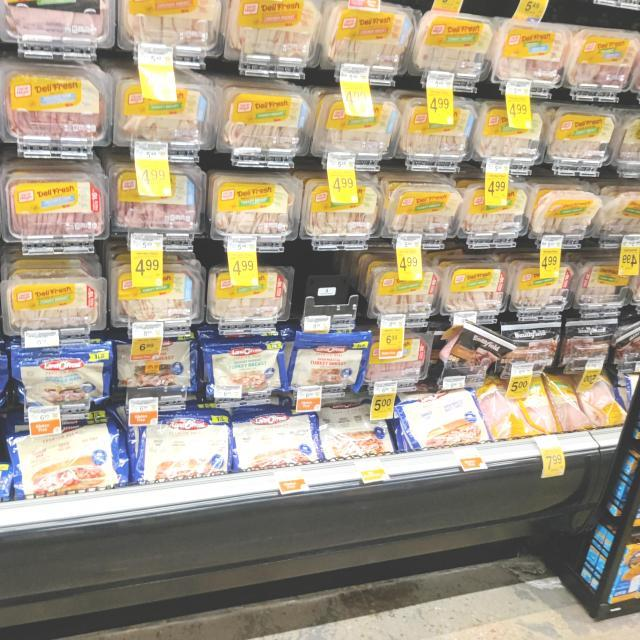Meat: (0, 61, 112, 143), (0, 426, 126, 495), (130, 410, 241, 485), (114, 72, 218, 152), (209, 164, 302, 245), (110, 158, 203, 238), (302, 86, 399, 162), (0, 170, 110, 235), (10, 344, 120, 409), (388, 385, 491, 454), (117, 254, 203, 335), (298, 169, 387, 247), (217, 82, 310, 156), (0, 270, 107, 334), (116, 334, 204, 402), (284, 323, 368, 394), (240, 401, 324, 471), (202, 266, 302, 324), (202, 330, 285, 398), (364, 317, 432, 395), (399, 95, 476, 159), (476, 91, 545, 162), (383, 170, 457, 236), (544, 104, 622, 166), (534, 172, 607, 236), (460, 178, 530, 240), (359, 264, 436, 320), (438, 261, 516, 312), (512, 255, 576, 306)
